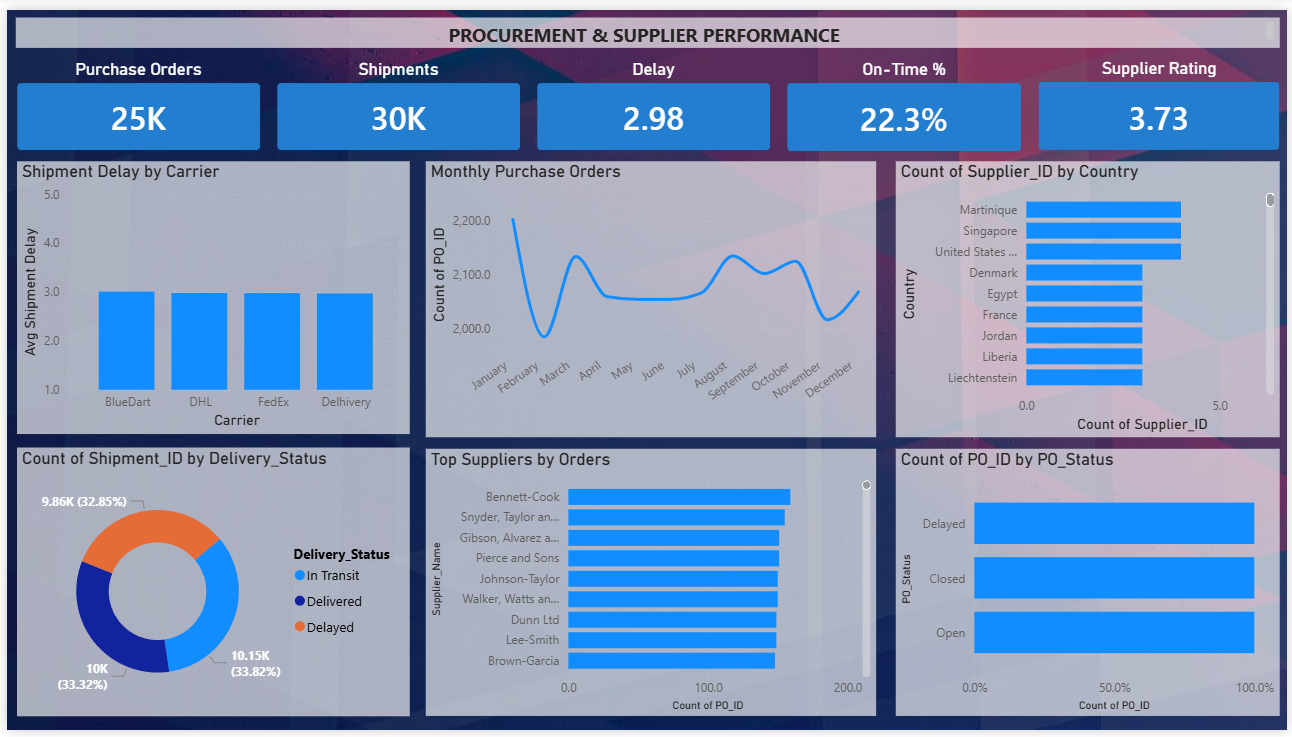

Layout of this report page (visuals, bound fields, positions):
{"tool":"powerbi","page":{"name":"LOGISTICS & PROCUREMENT","canvas":[1280,720],"ordinal":2},"visuals":[{"type":"cardVisual","title":"Purchase Orders","fields":{"Data":["Purchase_Orders.Total Purchase Orders"]},"box":[0,38.8,260,111.2],"z":0},{"type":"cardVisual","title":"Shipments","fields":{"Data":["Shipments.Total Shipments"]},"box":[260,38.8,260,111.2],"z":1000},{"type":"cardVisual","title":"Delay","fields":{"Data":["Shipments.Avg Shipment Delay"]},"box":[510,38.8,260,111.2],"z":2000},{"type":"cardVisual","title":"On-Time %","fields":{"Data":["Shipments.On Time Delivery %"]},"box":[770,38.8,260,112.5],"z":3000},{"type":"cardVisual","title":"Supplier Rating","fields":{"Data":["Suppliers.Avg Supplier Rating"]},"box":[1021.2,38.8,258.8,112.5],"z":4000},{"type":"clusteredColumnChart","title":"Shipment Delay by Carrier","fields":{"Y":["Shipments.Avg Shipment Delay"],"Category":["Shipments.Carrier"]},"box":[0,151.7,402.3,272.4],"z":5000},{"type":"donutChart","fields":{"Category":["Shipments.Delivery_Status"],"Y":["CountNonNull(Shipments.Shipment_ID)"]},"box":[0,439.1,402.3,280.5],"z":6000},{"type":"lineChart","title":"Monthly Purchase Orders","fields":{"Category":["Purchase_Orders.Order_Date.Variation.Date Hierarchy.Month","Purchase_Orders.Order_Date.Variation.Date Hierarchy.Day"],"Y":["CountNonNull(Purchase_Orders.PO_ID)"]},"box":[418.4,151.7,450.6,275.9],"z":7000},{"type":"barChart","title":"Top Suppliers by Orders","fields":{"Y":["CountNonNull(Purchase_Orders.PO_ID)"],"Category":["Suppliers.Supplier_Name"]},"box":[418.4,439.1,450.6,280.5],"z":8000},{"type":"hundredPercentStackedBarChart","fields":{"Y":["CountNonNull(Purchase_Orders.PO_ID)"],"Category":["Purchase_Orders.PO_Status"]},"box":[888.5,439.1,383.9,280.5],"z":9000},{"type":"barChart","fields":{"Category":["Suppliers.Country"],"Y":["CountNonNull(Suppliers.Supplier_ID)"]},"box":[888.5,151.7,383.9,275.9],"z":10000},{"type":"textbox","box":[0,1.2,1280,37.5],"z":10001}]}

Visuals, with their boxes in screenshot pixels (x1, y1, x2, y2), scaled from the page's 1280x720 canvas onto the 1292x737 screenshot:
"Purchase Orders" cardVisual: 0,40,262,154
"Shipments" cardVisual: 262,40,525,154
"Delay" cardVisual: 515,40,777,154
"On-Time %" cardVisual: 777,40,1040,155
"Supplier Rating" cardVisual: 1031,40,1291,155
"Shipment Delay by Carrier" clusteredColumnChart: 0,155,406,434
donutChart - Shipments.Delivery_Status x CountNonNull(Shipments.Shipment_ID): 0,449,406,736
"Monthly Purchase Orders" lineChart: 422,155,877,438
"Top Suppliers by Orders" barChart: 422,449,877,736
hundredPercentStackedBarChart - CountNonNull(Purchase_Orders.PO_ID) x Purchase_Orders.PO_Status: 897,449,1284,736
barChart - Suppliers.Country x CountNonNull(Suppliers.Supplier_ID): 897,155,1284,438
textbox: 0,1,1291,40
